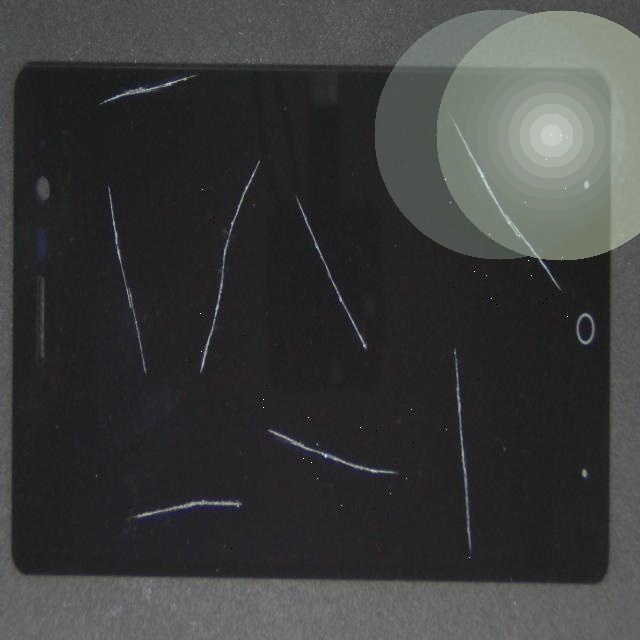scratch: (212, 39, 640, 613), (65, 208, 466, 640), (94, 164, 283, 587), (238, 29, 640, 188), (60, 244, 172, 640), (60, 57, 153, 270)
